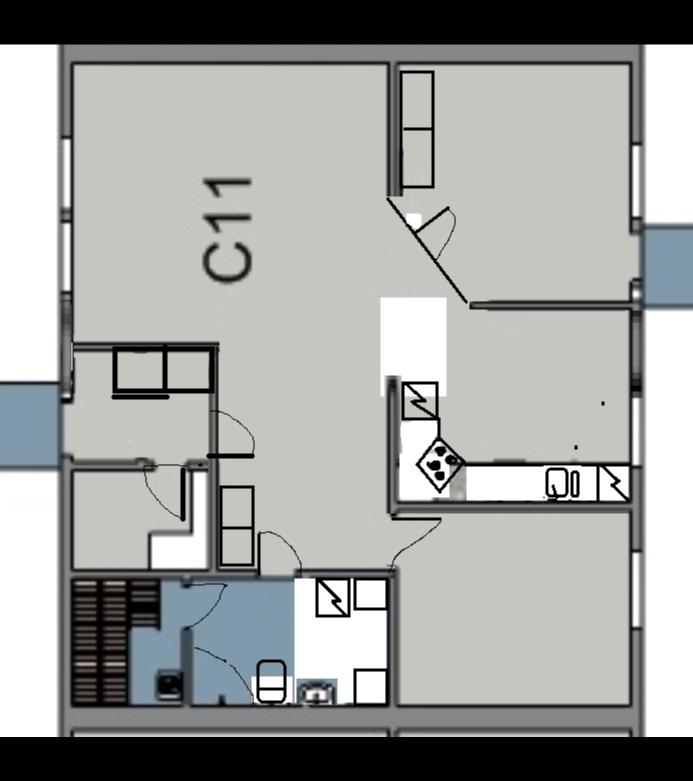bathroom: (192, 578, 294, 708)
door: (207, 400, 258, 462), (386, 514, 443, 566), (255, 530, 306, 584), (146, 462, 189, 518), (181, 582, 229, 632), (414, 204, 460, 256)
perimeter: (55, 44, 643, 736)
window: (624, 134, 648, 228), (626, 386, 649, 473), (628, 540, 646, 637), (56, 215, 78, 292), (60, 130, 78, 217)
